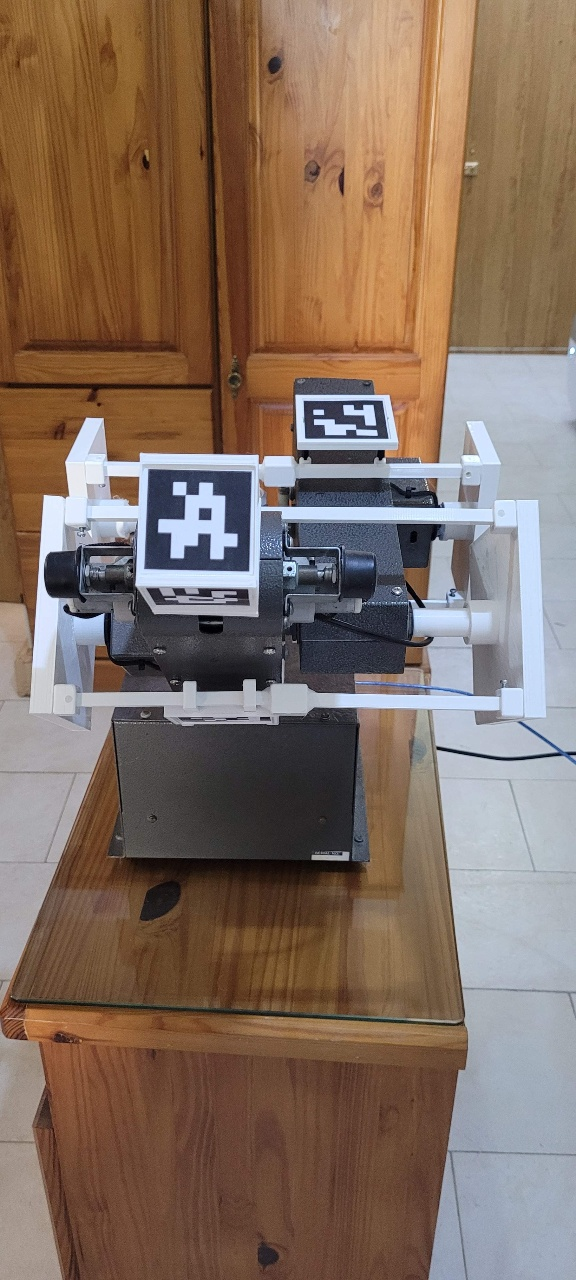Robot: (33, 291, 576, 1052)
